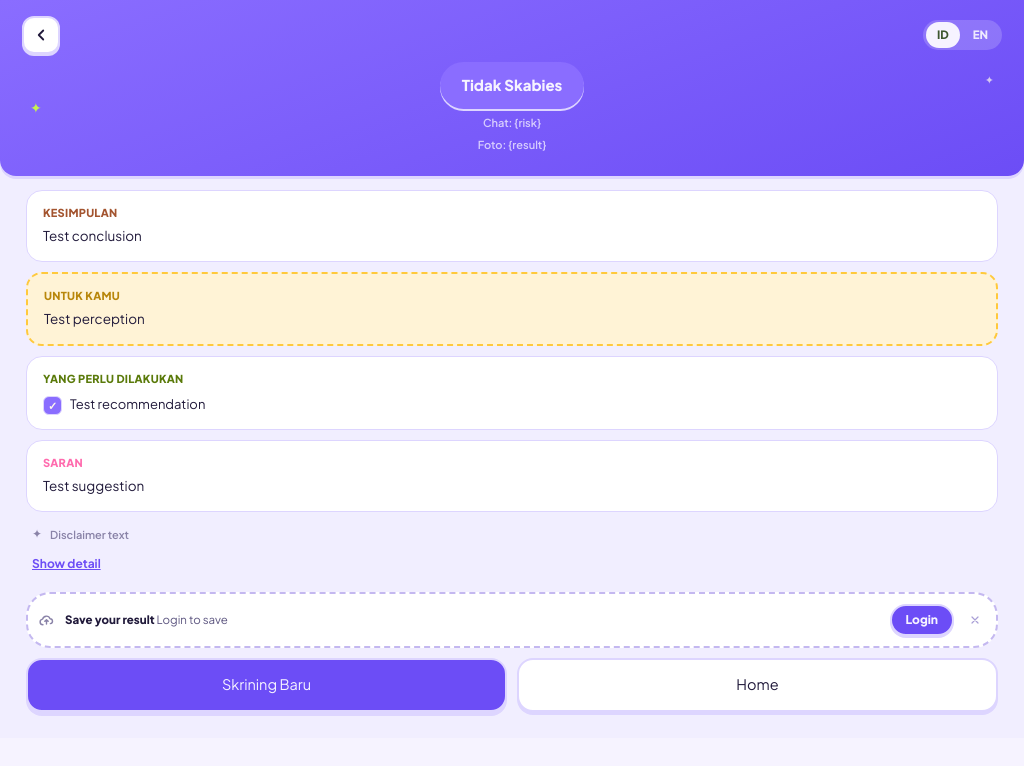
Scenario: ResultScreen › visual detection card display › renders visual detection card with question mark for failed prediction
Click the button "Show detail".
click(66, 564)  # box [26,556,107,572]
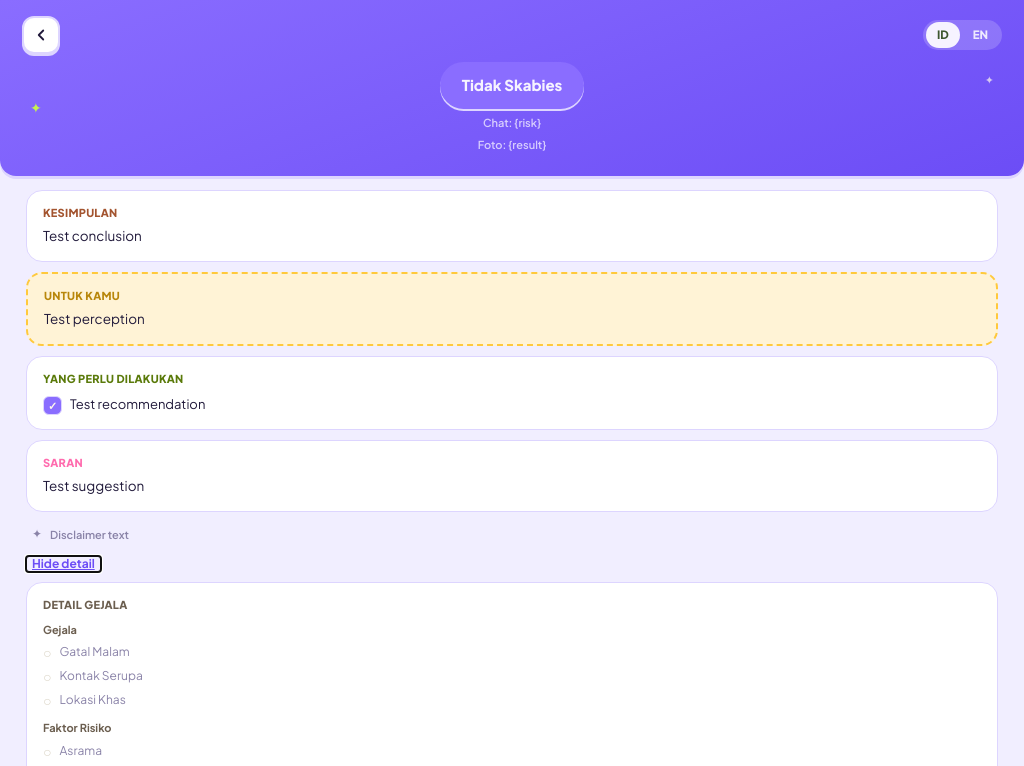
Result: the text "○" next to "Gatal Malam" is shown at [43,643,52,661]
